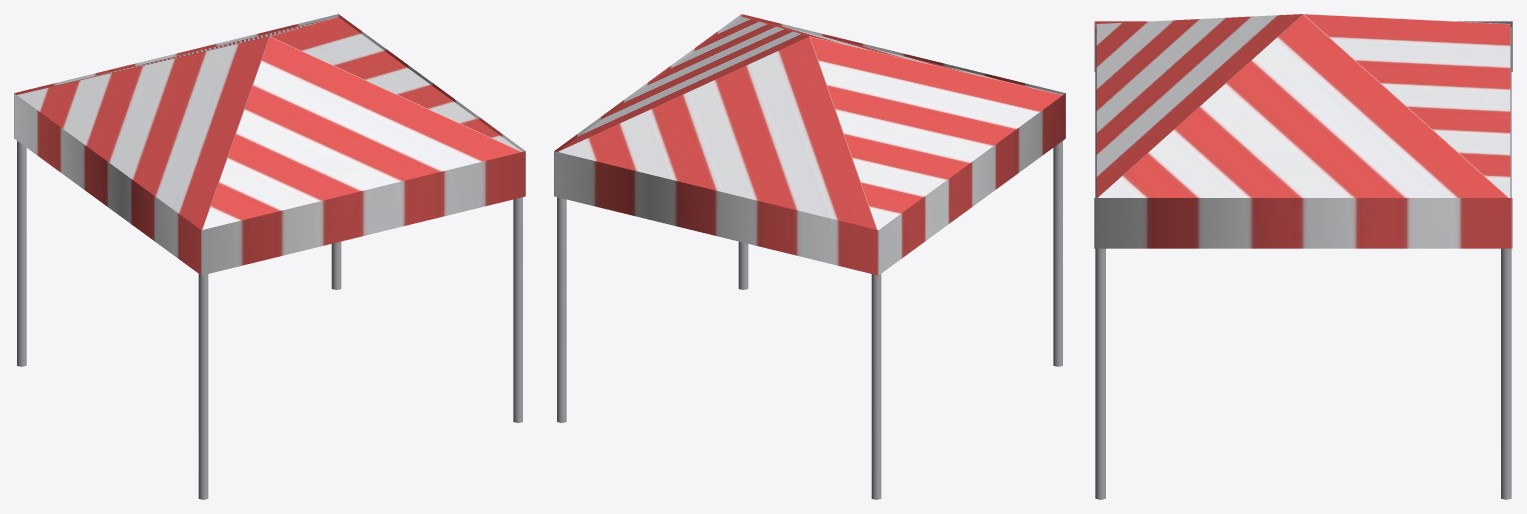
File: market_tent_v2_lod2.glb
3 views of the same model, side by side, from view 1: azimuth 30°, elevation 25°; view 2: azimuth 150°, elevation 25°; view 3: azimuth 270°, elevation 25° (orthographic). The views are drawn at different scales.
Parts seen in each view (by area): view 1: market_tent_v2; view 2: market_tent_v2; view 3: market_tent_v2.
Part boxes in pixels (x1=…): market_tent_v2: x1=14, y1=14, x2=525, y2=499; market_tent_v2: x1=554, y1=14, x2=1065, y2=499; market_tent_v2: x1=1094, y1=14, x2=1512, y2=499.
Bounding box in the file's own units: 1.01 × 1.06 × 1.01.
2 materials, 1 textured.
